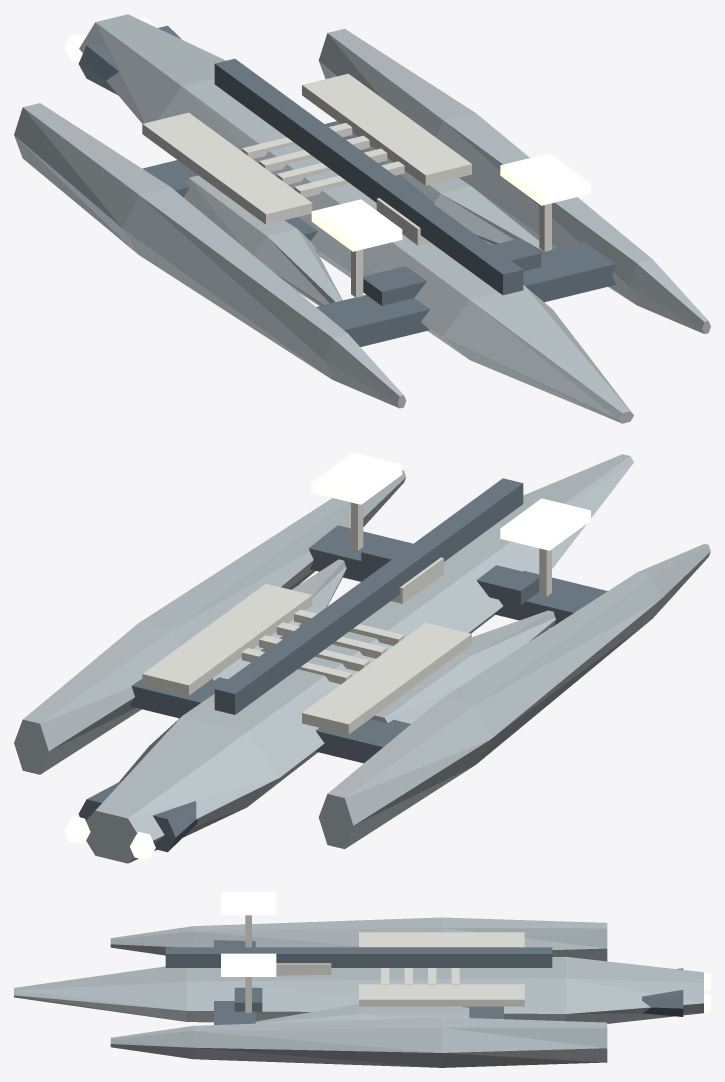
The picture shows the model from 3 angles, top to bottom: view 1: azimuth 30°, elevation 25°; view 2: azimuth 150°, elevation 25°; view 3: azimuth 270°, elevation 25°; orthographic projection. The views are drawn at different scales.
Size of the model in its own units: 4.22 by 1.42 by 10.3.
